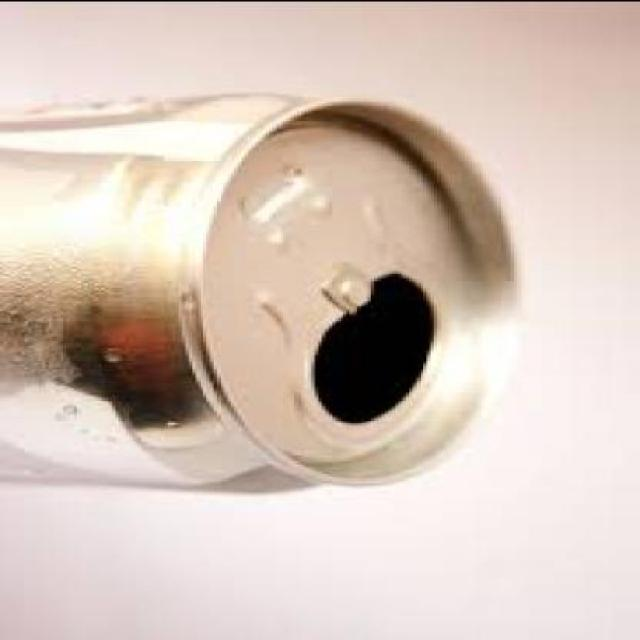METAL: (4, 84, 521, 488)
